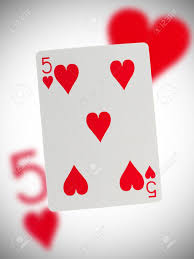five of hearts: (37, 42, 162, 212)
